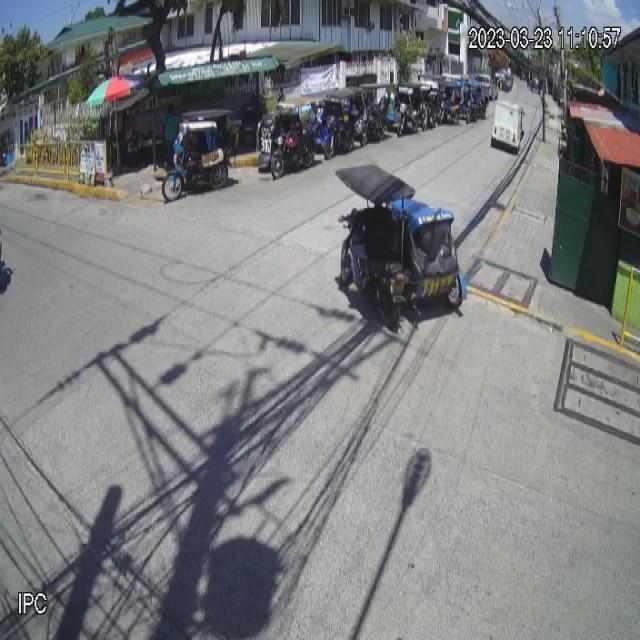Tricycle: (335, 163, 467, 327)
